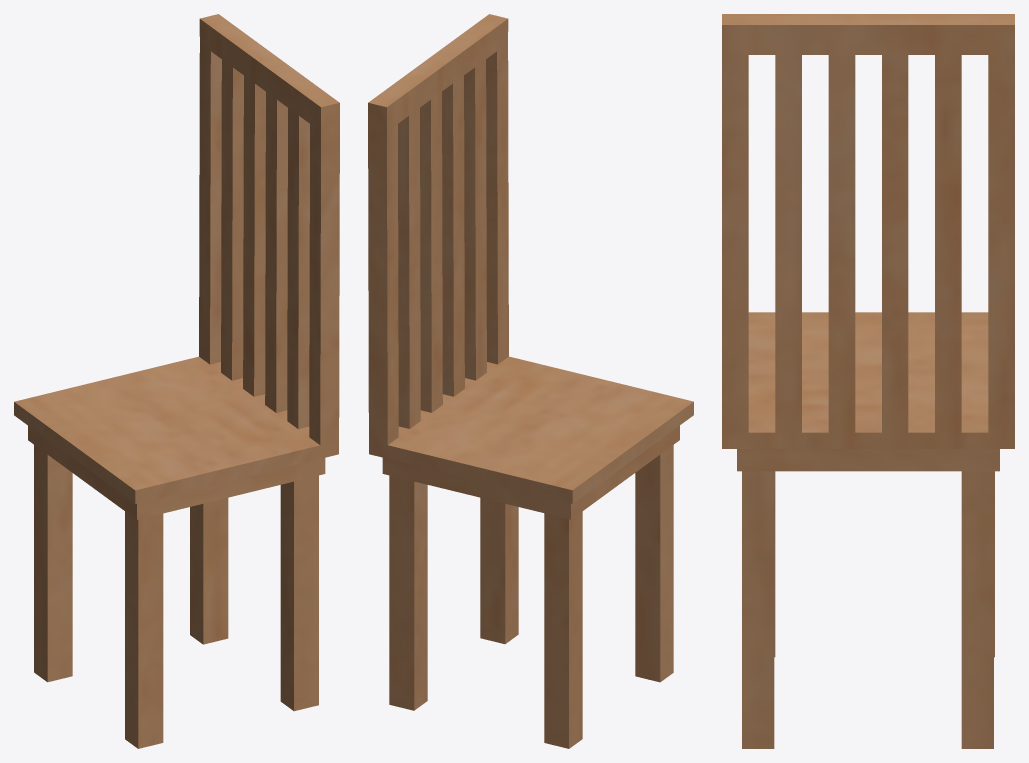
File: chair.fbx
3 renders of one model, left to right at view 1: azimuth 30°, elevation 25°; view 2: azimuth 150°, elevation 25°; view 3: azimuth 270°, elevation 25°, orthographic. The views are drawn at different scales.
Parts seen in each view (by area): view 1: Cube.001; view 2: Cube.001; view 3: Cube.001.
Part boxes in pixels (x1,y1,x2,y2): Cube.001: (14, 14, 339, 748); Cube.001: (368, 14, 693, 748); Cube.001: (722, 14, 1014, 748).
Bounding box in the file's own units: 0.5152 × 1.46 × 0.5287.
